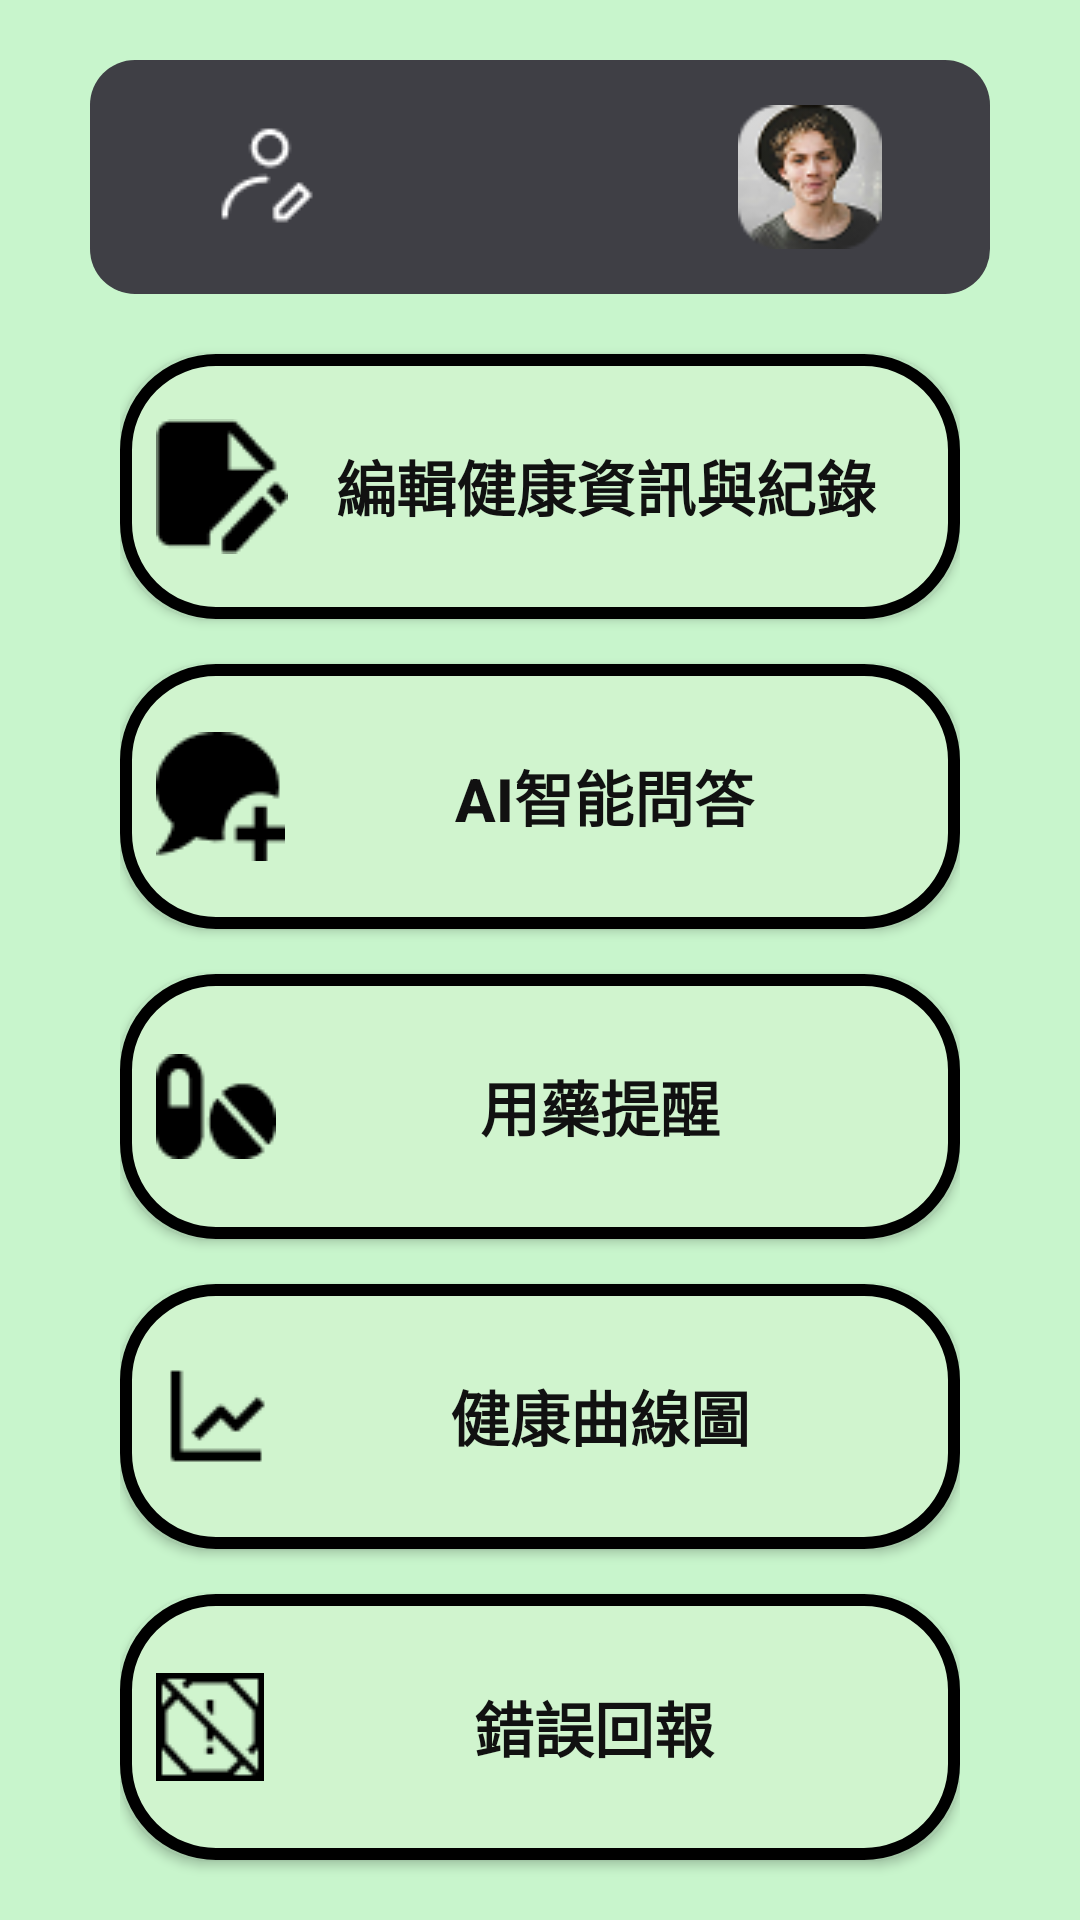

Screen size 1080px×1920px. Icon name, then its box in pixels as (x1, y1, x2, y2):
user photo: (738, 105, 882, 249)
